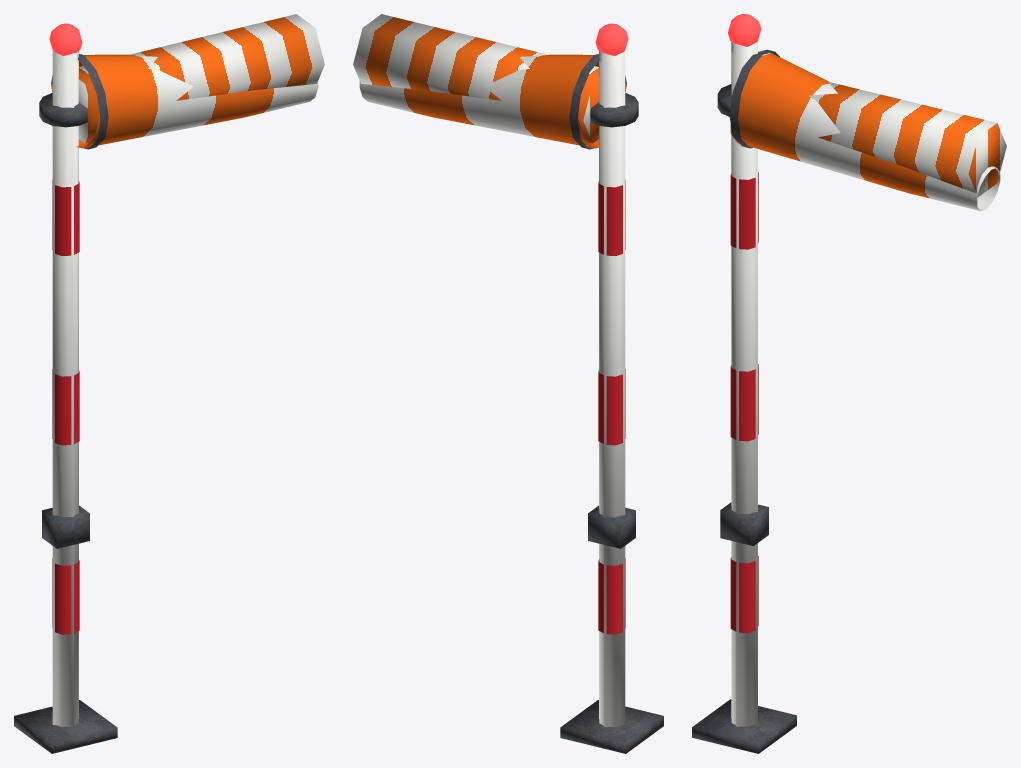
Rendered from p_windsock.glb.
The picture shows the model from 3 angles, left to right: view 1: azimuth 30°, elevation 25°; view 2: azimuth 150°, elevation 25°; view 3: azimuth 330°, elevation 25°; orthographic projection.
Parts seen in each view (by area): view 1: lod1_mesh.002, sock, ws_hp_white, ws_hp_steel, ws_hp_red, ws_hp_lamp; view 2: lod1_mesh.002, sock, ws_hp_white, ws_hp_steel, ws_hp_red, ws_hp_lamp; view 3: lod1_mesh.002, sock, ws_hp_white, ws_hp_steel, ws_hp_red, ws_hp_lamp.
Part boxes in pixels (x1,y1,x2,y2): lod1_mesh.002: [52, 14, 324, 727]; sock: [52, 54, 318, 148]; ws_hp_white: [57, 60, 78, 726]; ws_hp_steel: [14, 54, 117, 753]; ws_hp_red: [52, 180, 79, 634]; ws_hp_lamp: [49, 23, 82, 56]; lod1_mesh.002: [353, 14, 625, 727]; sock: [359, 54, 625, 148]; ws_hp_white: [599, 60, 620, 726]; ws_hp_steel: [560, 54, 663, 753]; ws_hp_red: [598, 180, 625, 634]; ws_hp_lamp: [595, 23, 628, 56]; lod1_mesh.002: [731, 41, 1006, 726]; sock: [730, 53, 1000, 210]; ws_hp_white: [731, 51, 753, 726]; ws_hp_steel: [692, 49, 796, 753]; ws_hp_red: [730, 172, 758, 632]; ws_hp_lamp: [728, 14, 761, 46].
Bounding box in the file's own units: 1.68 × 4.11 × 0.52.
5 materials, 2 textured.
